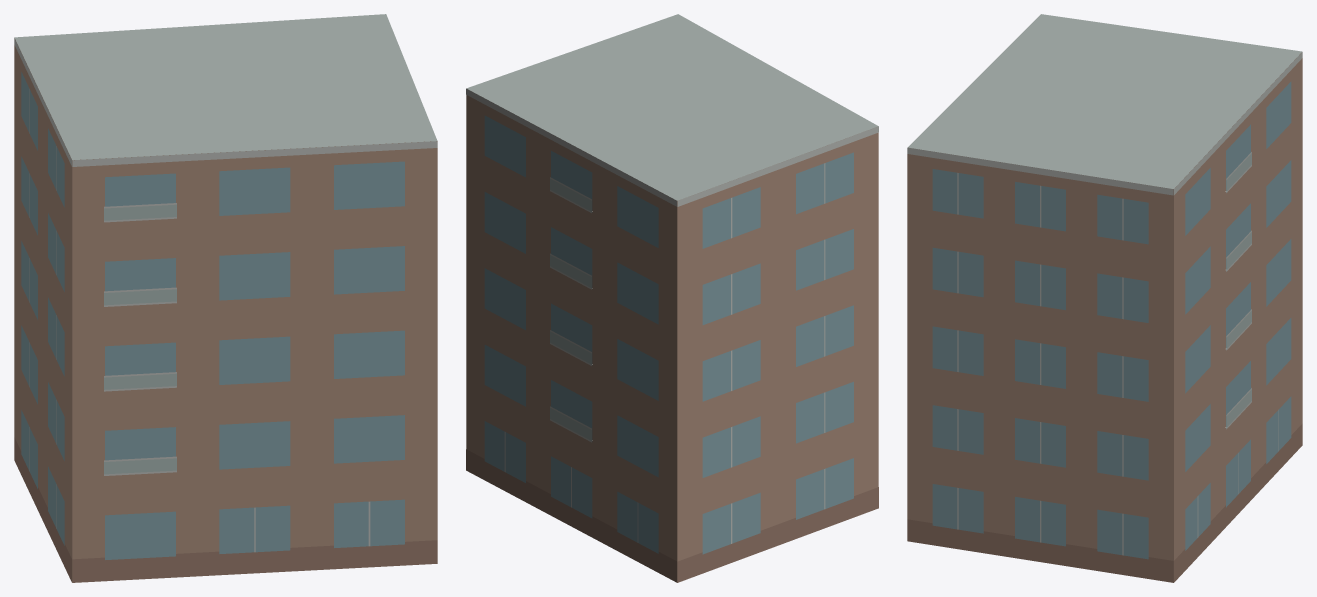
Rendered from survey-upis-32492214.glb.
3 views of the same model, side by side, from view 1: azimuth 30°, elevation 25°; view 2: azimuth 150°, elevation 25°; view 3: azimuth 270°, elevation 25° (orthographic). The views are drawn at different scales.
Parts seen in each view (by area): view 1: survey-upis-32492214.tmp; view 2: survey-upis-32492214.tmp; view 3: survey-upis-32492214.tmp.
Part boxes in pixels (left/top/right/bottom): survey-upis-32492214.tmp: left=14, top=14, right=437, bottom=582; survey-upis-32492214.tmp: left=466, top=14, right=878, bottom=582; survey-upis-32492214.tmp: left=907, top=14, right=1302, bottom=582.
Size of the model in its own units: 14.32 by 15 by 13.65.
